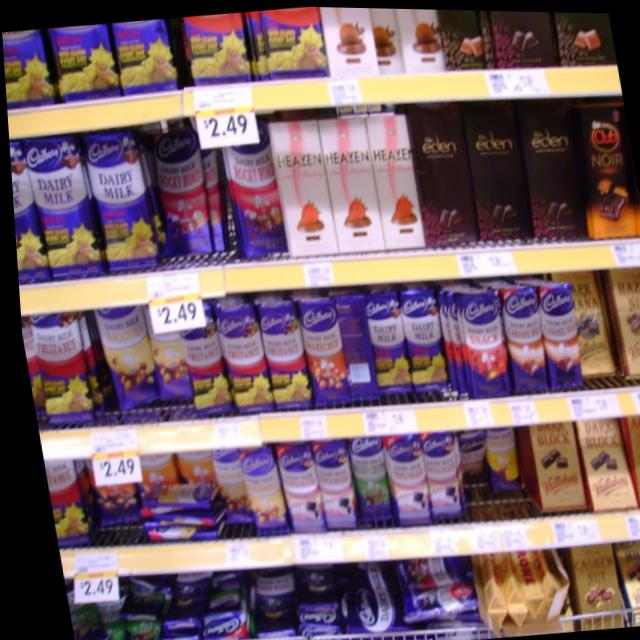q145: (19, 130, 103, 282), (81, 129, 160, 279), (355, 297, 409, 396), (395, 294, 447, 391), (7, 142, 41, 283)
q250: (262, 111, 338, 261), (314, 107, 382, 257), (359, 108, 423, 241)
